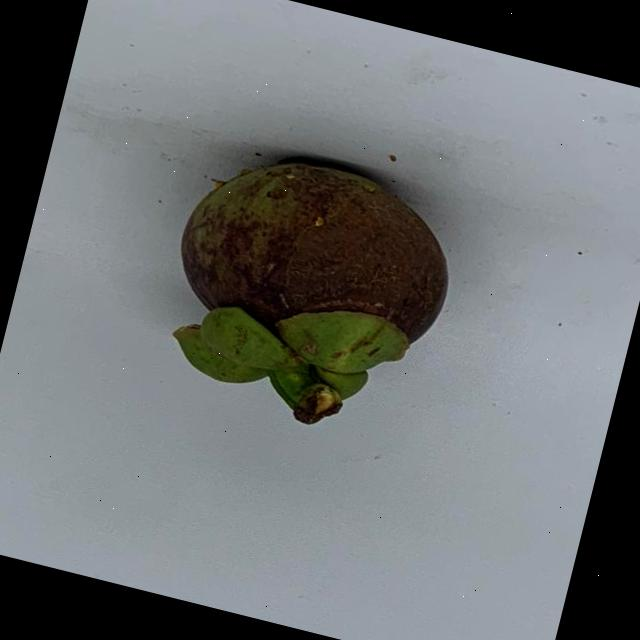mangosteen: (120, 108, 478, 457)
